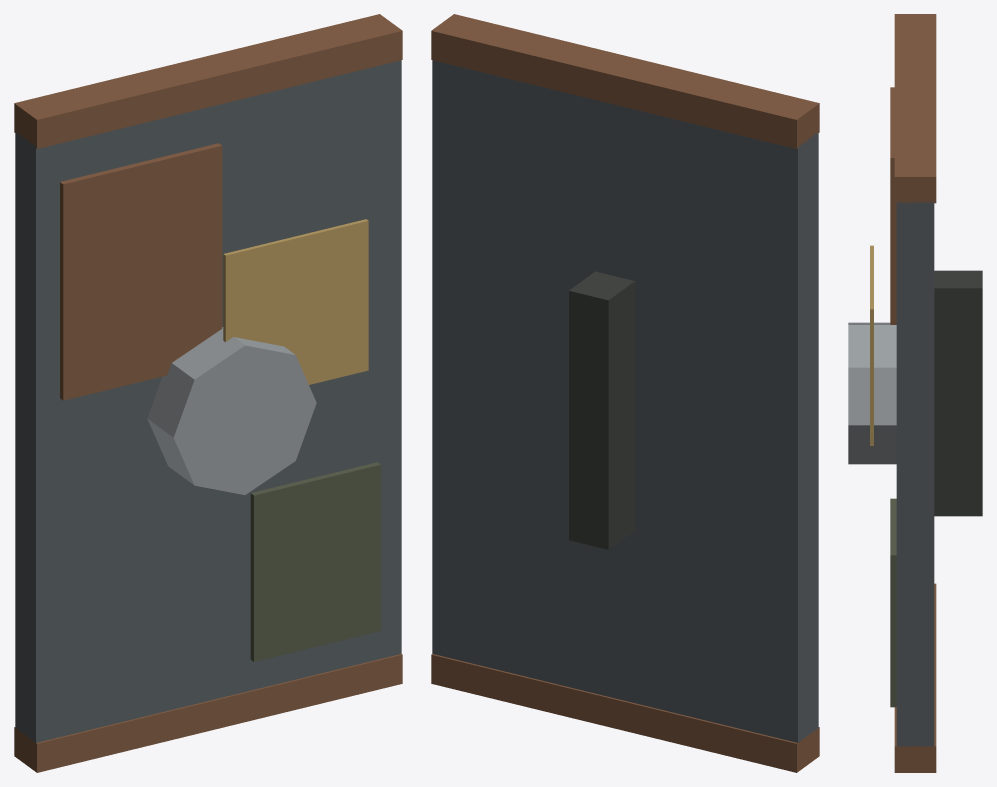
File: wpn_shield.glb
3 renders of one model, left to right at view 1: azimuth 30°, elevation 25°; view 2: azimuth 150°, elevation 25°; view 3: azimuth 270°, elevation 25°, orthographic. The views are drawn at different scales.
Visible parts, largest first — view 1: plate, plate_patch, plate_patch2, boss, rim_t, marking, rim_b; view 2: plate, rim_t, strap, rim_b; view 3: plate, strap, rim_t, boss, rim_b, plate_patch2, plate_patch, marking.
Part boxes in pixels (x1,y1,x2,y2): plate: (15,60,401,742); plate_patch: (60,143,222,400); plate_patch2: (250,462,381,661); boss: (147,327,316,494); rim_t: (14,14,402,148); marking: (223,219,368,384); rim_b: (14,654,402,772); plate: (432,60,818,742); rim_t: (431,14,819,148); strap: (569,271,634,549); rim_b: (431,654,819,772); plate: (896,201,934,746); strap: (934,270,982,516); rim_t: (894,14,936,203); boss: (848,322,896,464); rim_b: (894,583,936,772); plate_patch2: (890,498,896,707); plate_patch: (890,87,896,324); marking: (870,245,873,445).
Bounding box in the file's own units: 0.46 × 0.785 × 0.16.
